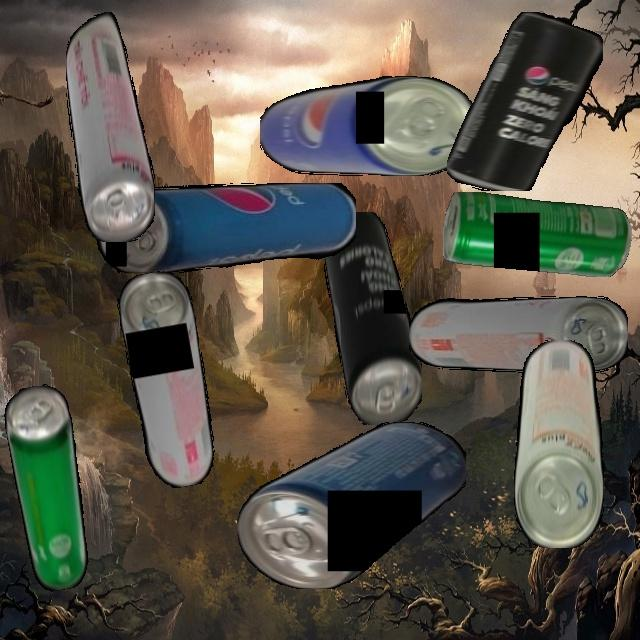debris: (237, 421, 466, 589), (447, 11, 603, 191), (113, 267, 224, 492), (96, 182, 356, 273), (259, 76, 476, 176), (0, 381, 100, 594), (323, 211, 422, 425), (65, 11, 155, 242), (513, 339, 604, 548), (408, 296, 628, 373), (442, 191, 632, 277)
